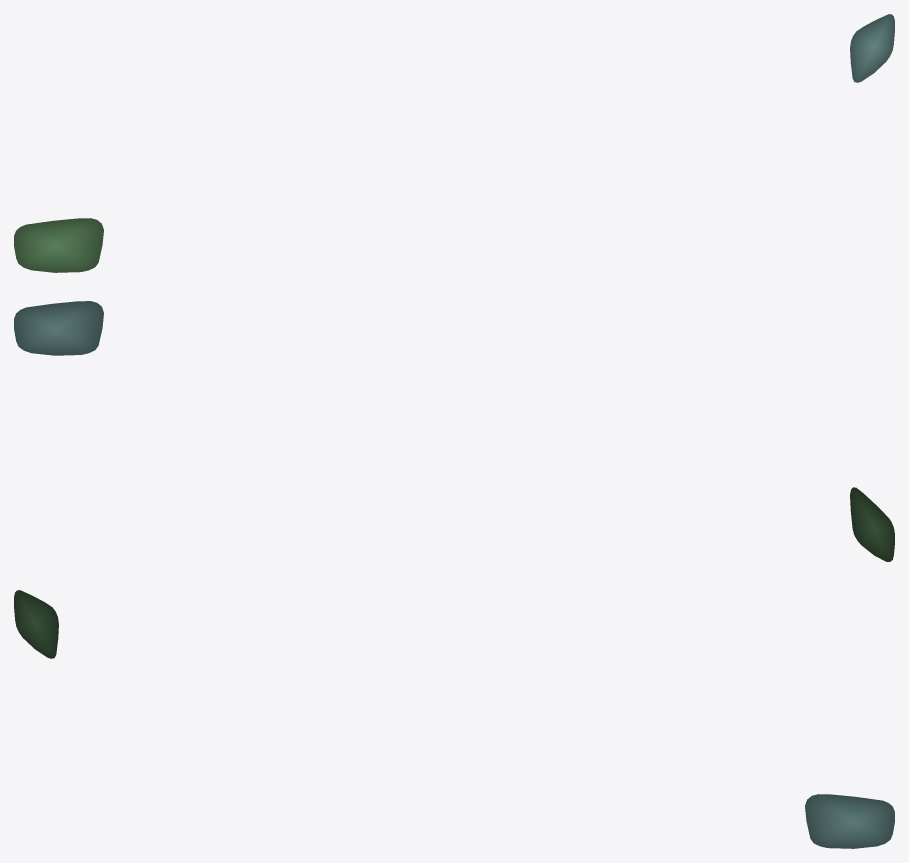
The model's file is G37_Mirror.fbx.
The picture shows the model from 3 angles, top to bottom: view 1: azimuth 30°, elevation 25°; view 2: azimuth 150°, elevation 25°; view 3: azimuth 330°, elevation 25°; orthographic projection.
Parts seen in each view (by area): view 1: G37_Mirror; view 2: G37_Mirror; view 3: G37_Mirror.
Boxes of the visible parts, x1,y1,x2,y2 form: G37_Mirror: (14,14,894,272); G37_Mirror: (14,301,894,561); G37_Mirror: (14,590,894,848).
Size of the model in its own units: 197 by 11.73 by 8.74.
